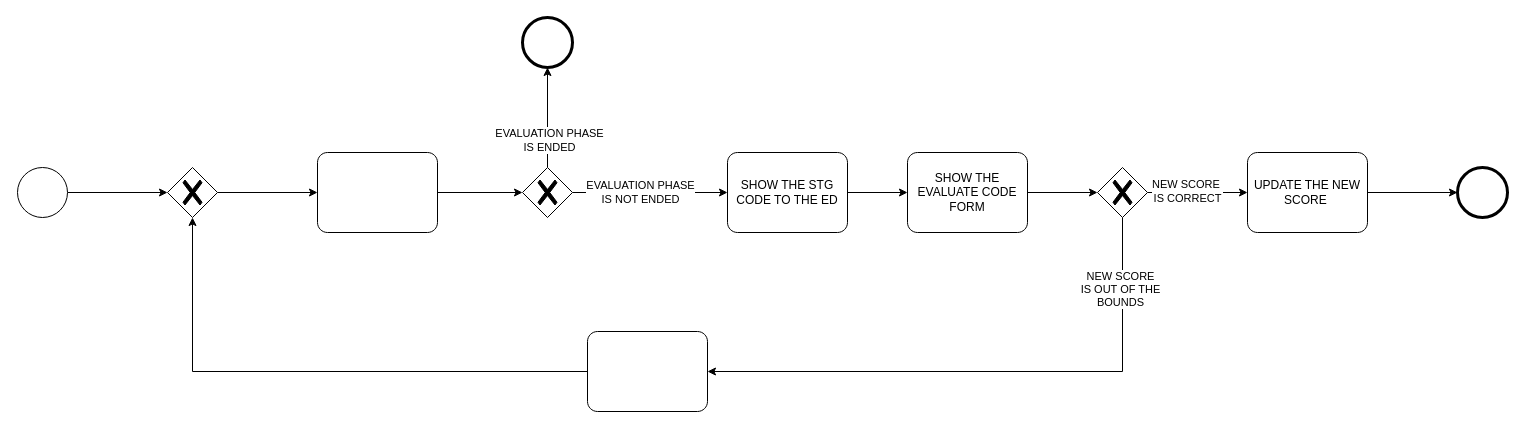
This 1525x429 diagram has some shape labels left out. The centre of each missing label's shape, as x and y in pixels:
"SHOW BATTLE LEADERBOARD PAGE" goes at pixel 377 192.
"SHOW ERROR MESSAGE" goes at pixel 647 371.
